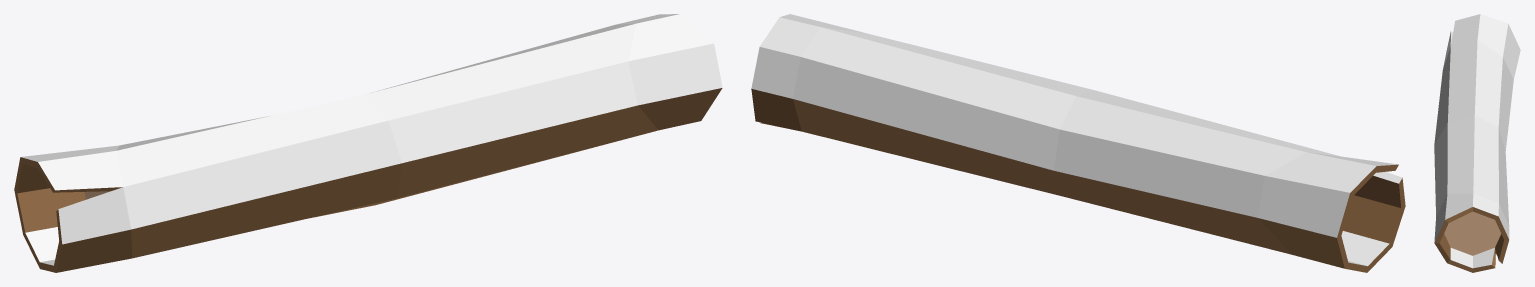
File: Pine_Log_Snow_07_LOD.fbx
The picture shows the model from 3 angles, left to right: view 1: azimuth 30°, elevation 25°; view 2: azimuth 150°, elevation 25°; view 3: azimuth 270°, elevation 25°; orthographic projection. The views are drawn at different scales.
Visible parts, largest first — view 1: Pine_Log_Snow_07_LOD0; view 2: Pine_Log_Snow_07_LOD0; view 3: Pine_Log_Snow_07_LOD0.
Part boxes in pixels (x1=…): Pine_Log_Snow_07_LOD0: x1=14, y1=14, x2=722, y2=272; Pine_Log_Snow_07_LOD0: x1=751, y1=14, x2=1405, y2=272; Pine_Log_Snow_07_LOD0: x1=1434, y1=14, x2=1520, y2=272.
Size of what is drawn, in the model's own units: 249 by 41.45 by 46.45.
